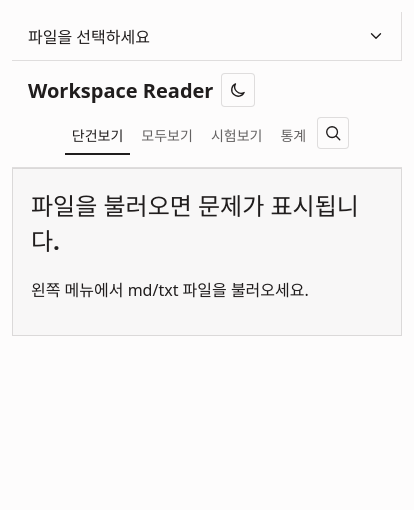
Test: Sidebar collapse › keeps the mobile file list collapsed until the summary is opened
The image size is (414, 510).
Click the button with aria-label "파일 메뉴 펼치기" at (89, 37), box x1=12 y1=12 x2=401 y2=61
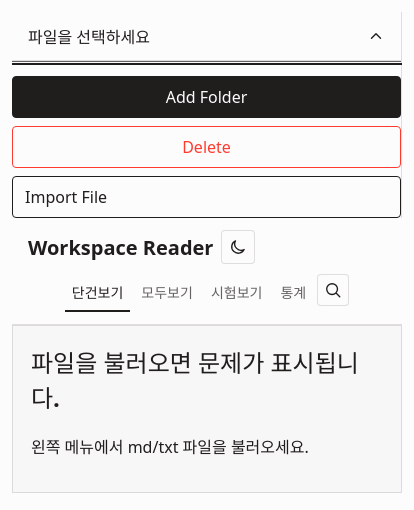
Now the button with aria-label "파일 메뉴 접기" is expanded, box x1=12 y1=12 x2=401 y2=61
